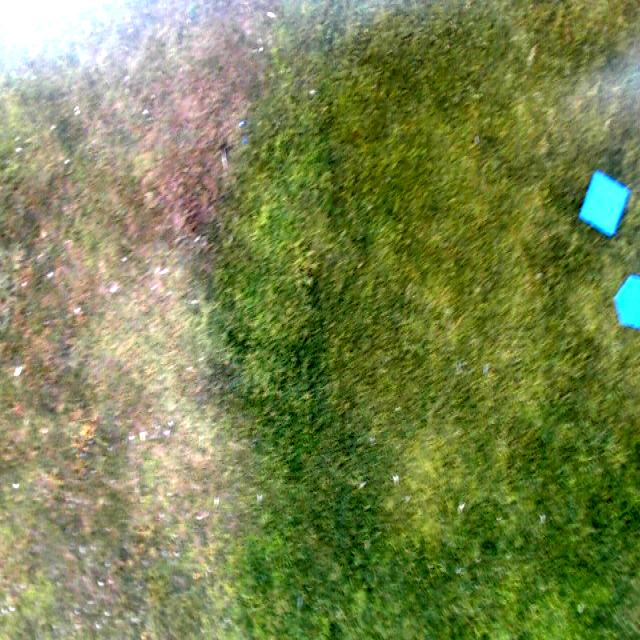blue_square: (578, 170, 630, 238)
